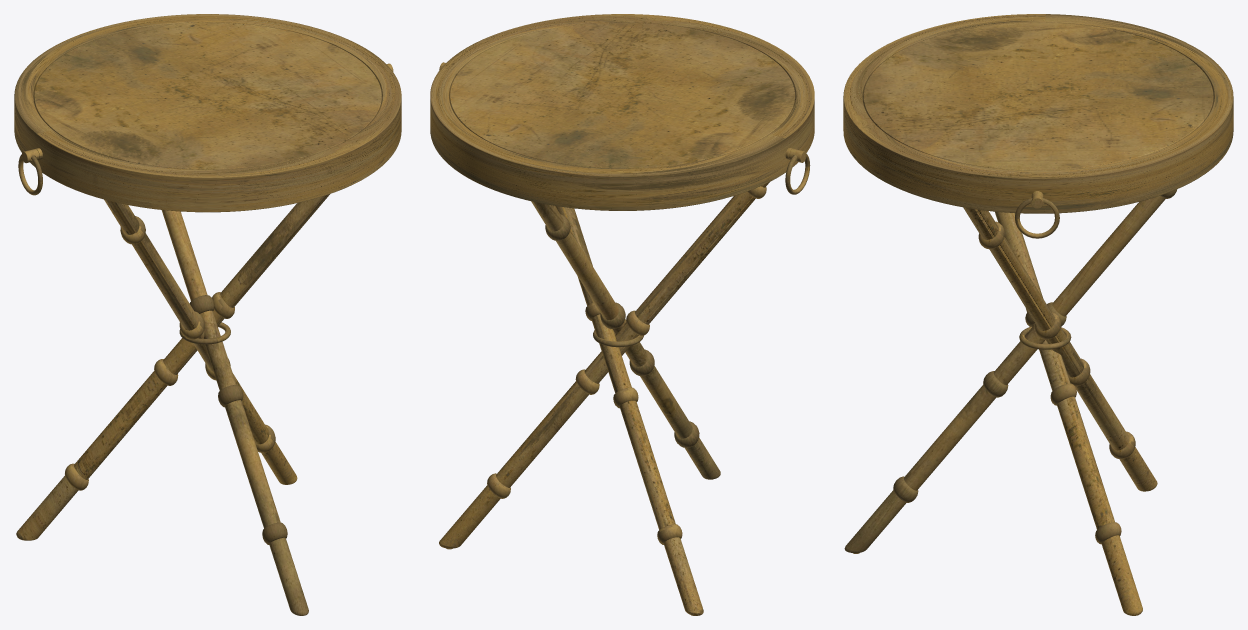
The model's file is Table.obj.
The picture shows the model from 3 angles, left to right: view 1: azimuth 30°, elevation 25°; view 2: azimuth 150°, elevation 25°; view 3: azimuth 270°, elevation 25°; orthographic projection.
Visible parts, largest first — view 1: Cylinder005, Torus001, Circle259; view 2: Cylinder005, Torus001, Circle259; view 3: Cylinder005, Torus001, Circle258.
Boxes of the visible parts, bbox=[...] form: Cylinder005: bbox=[14, 14, 401, 212]; Torus001: bbox=[16, 194, 329, 615]; Circle259: bbox=[18, 148, 42, 195]; Cylinder005: bbox=[430, 14, 814, 210]; Torus001: bbox=[439, 182, 769, 615]; Circle259: bbox=[785, 148, 810, 194]; Cylinder005: bbox=[843, 14, 1233, 213]; Torus001: bbox=[844, 189, 1176, 615]; Circle258: bbox=[1015, 191, 1059, 238].
Size of the model in its own units: 54.39 by 64.41 by 50.
